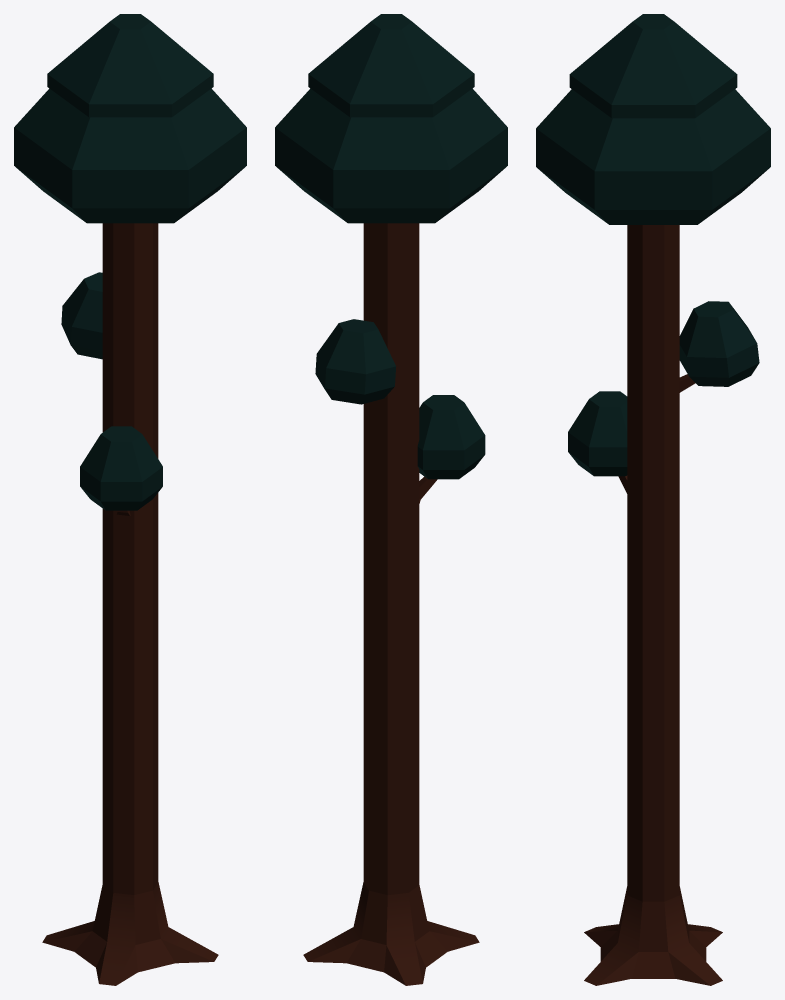
The model's file is LongTree5.fbx.
3 views of the same model, side by side, from view 1: azimuth 30°, elevation 25°; view 2: azimuth 150°, elevation 25°; view 3: azimuth 270°, elevation 25° (orthographic).
Parts seen in each view (by area): view 1: mergedBlocks; view 2: mergedBlocks; view 3: mergedBlocks.
Boxes of the visible parts, left/top/right/bottom form: mergedBlocks: left=14, top=14, right=246, bottom=985; mergedBlocks: left=275, top=14, right=507, bottom=985; mergedBlocks: left=536, top=14, right=770, bottom=985.
Size of the model in its own units: 14 by 71 by 16.17.
